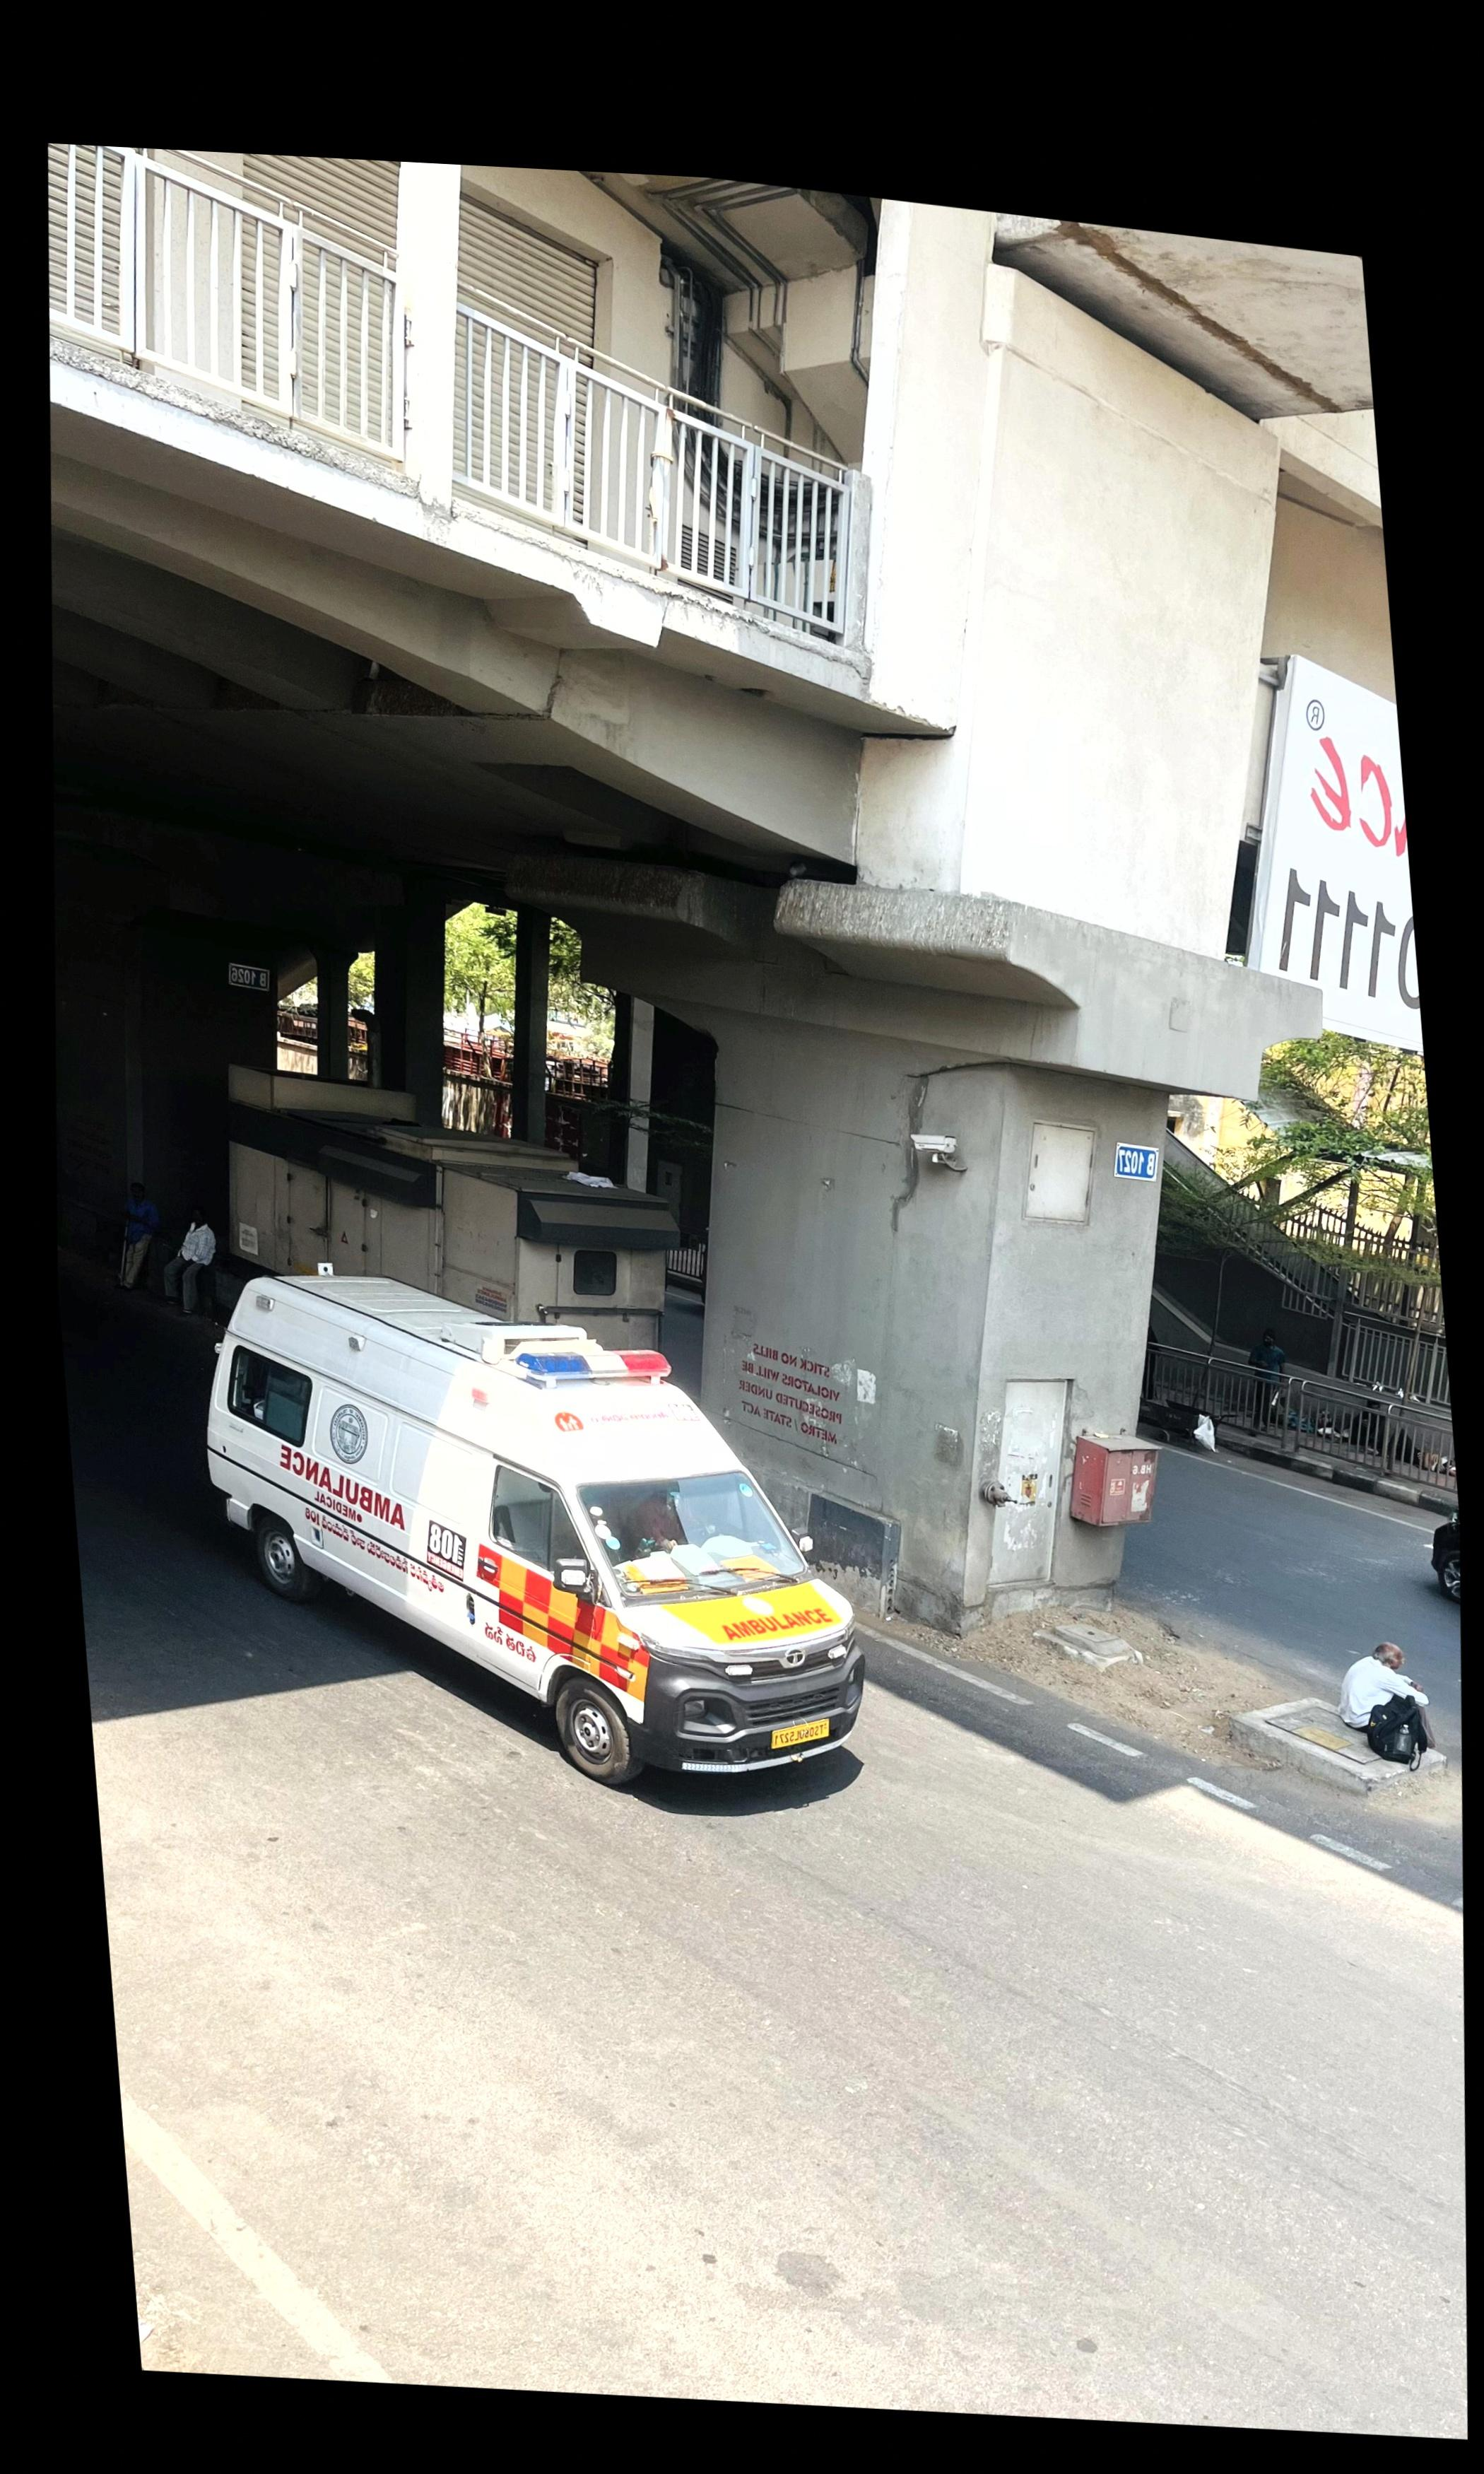ambulance: (207, 1274, 866, 1780)
